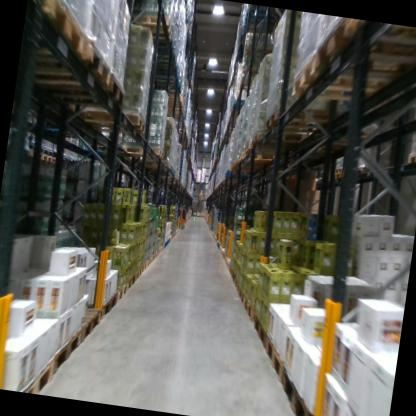forklift: (174, 191, 191, 236)
pallet: (288, 51, 402, 120), (310, 19, 416, 88), (19, 36, 119, 105), (43, 66, 133, 124), (23, 0, 95, 63), (264, 104, 338, 140), (276, 365, 323, 416), (82, 104, 148, 139), (43, 322, 83, 378), (127, 4, 179, 46), (93, 138, 166, 165), (17, 351, 56, 396), (64, 303, 100, 351), (259, 330, 289, 386), (249, 131, 299, 156), (85, 288, 119, 321), (237, 148, 284, 168), (244, 137, 286, 155), (251, 312, 269, 351), (239, 64, 264, 90), (241, 295, 259, 327), (110, 278, 130, 305), (157, 103, 188, 120), (136, 156, 171, 171), (351, 161, 380, 179), (158, 90, 185, 108), (122, 269, 136, 294), (129, 260, 143, 285), (25, 147, 44, 162), (328, 167, 345, 182), (236, 287, 246, 310), (40, 151, 55, 164), (233, 275, 242, 294), (229, 269, 238, 288), (407, 148, 416, 166), (227, 261, 235, 279), (149, 250, 157, 266), (224, 258, 232, 274), (139, 260, 147, 275), (145, 255, 152, 267), (154, 245, 161, 257), (160, 242, 165, 252), (199, 192, 203, 196), (198, 195, 203, 198)
